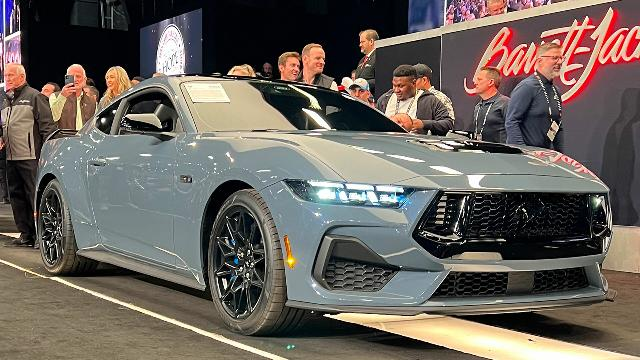ford-mustang: (34, 74, 618, 336)
